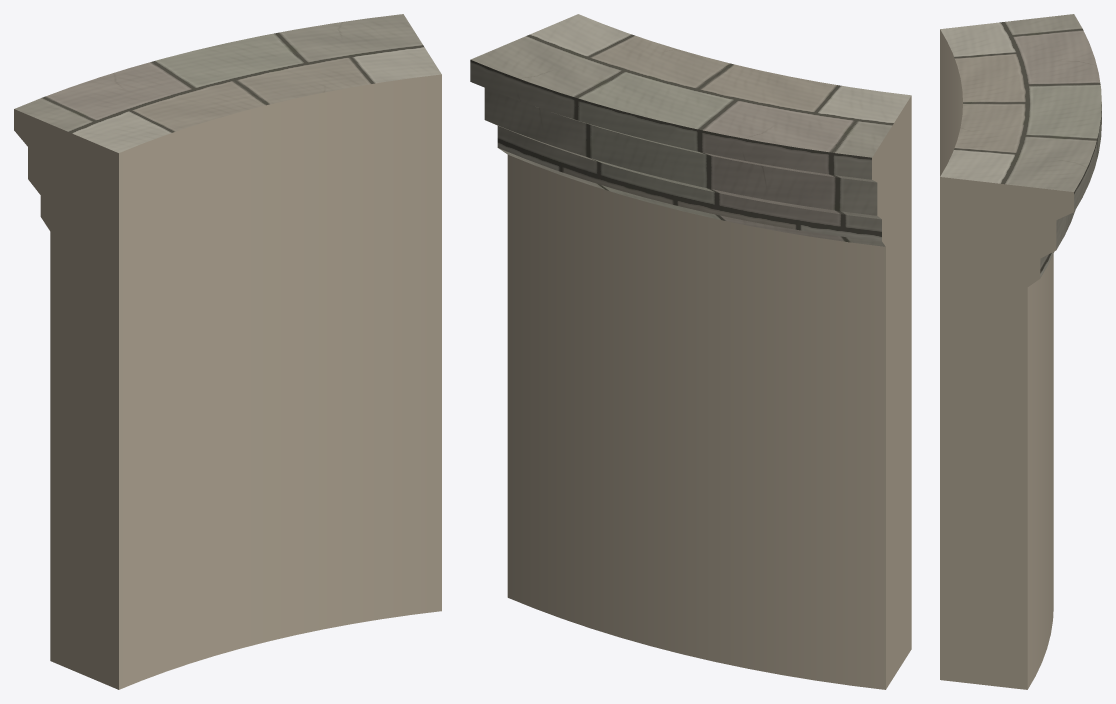
Rendered from Furn_Tower3_R35_Top.fbx.
The picture shows the model from 3 angles, left to right: view 1: azimuth 30°, elevation 25°; view 2: azimuth 150°, elevation 25°; view 3: azimuth 270°, elevation 25°; orthographic projection. The views are drawn at different scales.
Visible parts, largest first — view 1: Furn_Tower3_R35_Top; view 2: Furn_Tower3_R35_Top; view 3: Furn_Tower3_R35_Top.
Part boxes in pixels (x1,y1,x2,y2): Furn_Tower3_R35_Top: [14, 14, 441, 689]; Furn_Tower3_R35_Top: [470, 14, 911, 689]; Furn_Tower3_R35_Top: [940, 14, 1101, 689].
Size of the model in its own units: 2.28 by 3 by 0.8744.
